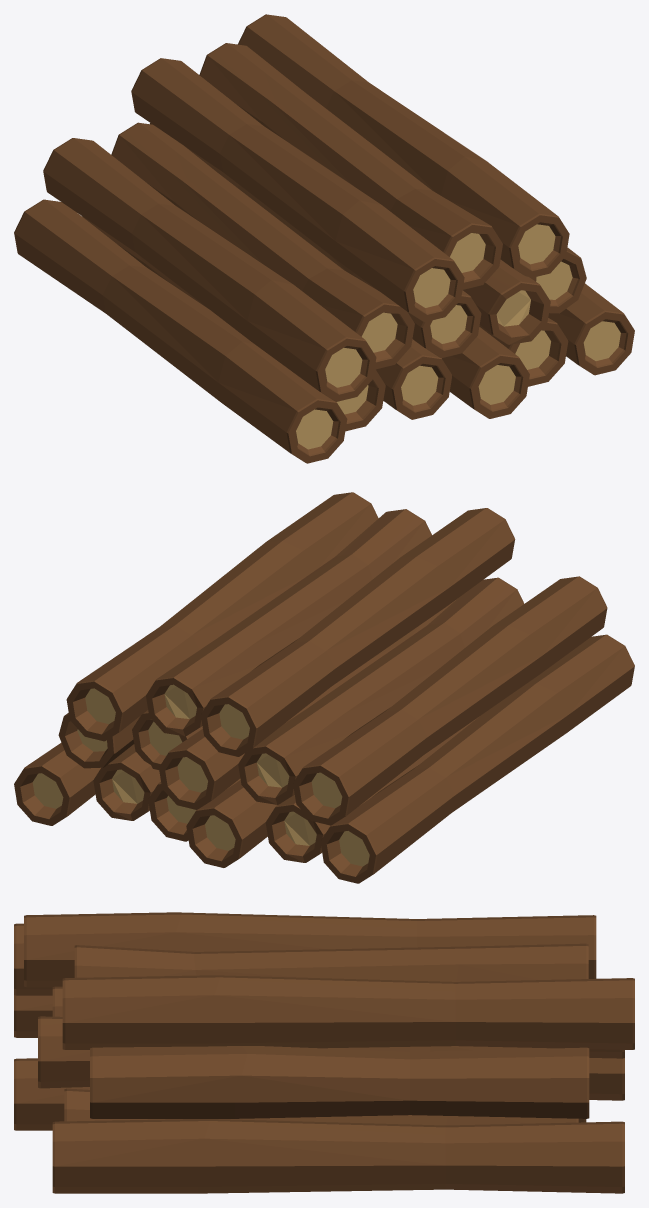
File: logs_a_2968.gltf
3 renders of one model, top to bottom at view 1: azimuth 30°, elevation 25°; view 2: azimuth 150°, elevation 25°; view 3: azimuth 270°, elevation 25°, orthographic. The views are drawn at different scales.
Parts seen in each view (by area): view 1: logs_a002; view 2: logs_a002; view 3: logs_a002.
Part boxes in pixels (box(x1,y1,x2,y2)): logs_a002: box(14, 14, 634, 463); logs_a002: box(14, 492, 634, 883); logs_a002: box(14, 912, 634, 1193).
Bounding box in the file's own units: 1.8 × 0.8147 × 2.54.
1 material, 1 textured.
